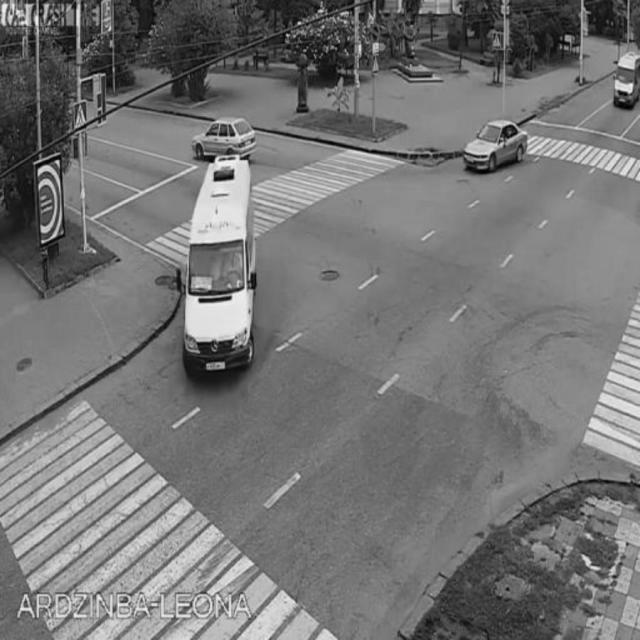vehicle: (184, 158, 252, 374), (465, 120, 531, 168), (198, 120, 256, 162), (611, 53, 640, 103)
